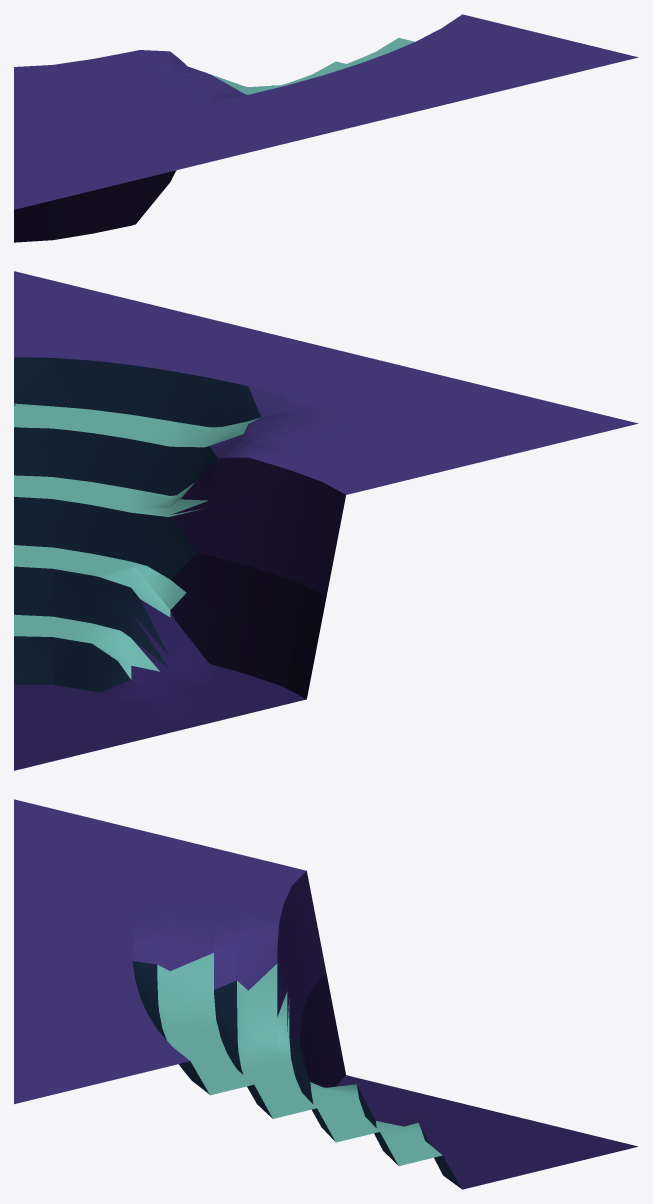
The model's file is MODULE_ALIEN_MIX_SIDE_A_1.fbx.
3 views of the same model, one above another, from view 1: azimuth 30°, elevation 25°; view 2: azimuth 150°, elevation 25°; view 3: azimuth 270°, elevation 25° (orthographic).
Parts seen in each view (by area): view 1: MODULE_ALIEN_MIX_SIDE_A_1__export; view 2: MODULE_ALIEN_MIX_SIDE_A_1__export; view 3: MODULE_ALIEN_MIX_SIDE_A_1__export.
Part boxes in pixels (left/top/right/bottom): MODULE_ALIEN_MIX_SIDE_A_1__export: left=14, top=14, right=638, bottom=242; MODULE_ALIEN_MIX_SIDE_A_1__export: left=14, top=271, right=638, bottom=770; MODULE_ALIEN_MIX_SIDE_A_1__export: left=14, top=799, right=637, bottom=1189.
Bounding box in the file's own units: 100 × 29.78 × 86.6.
